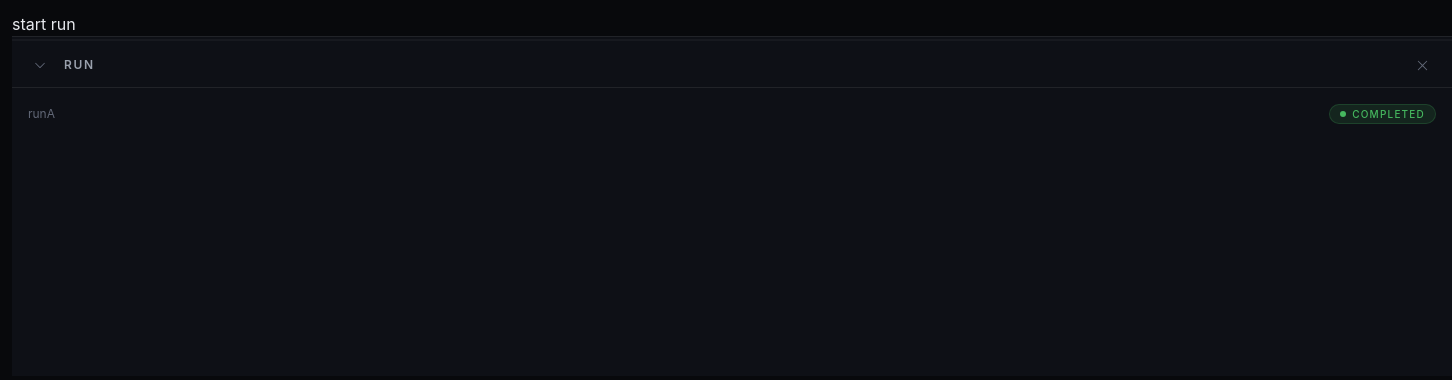
Scenario: RunDrawer — history replay & re-attach › the back control returns from a replayed run to the history list
Click the button "runA completed". click: (1383,114)
box: [20,96,1444,132]
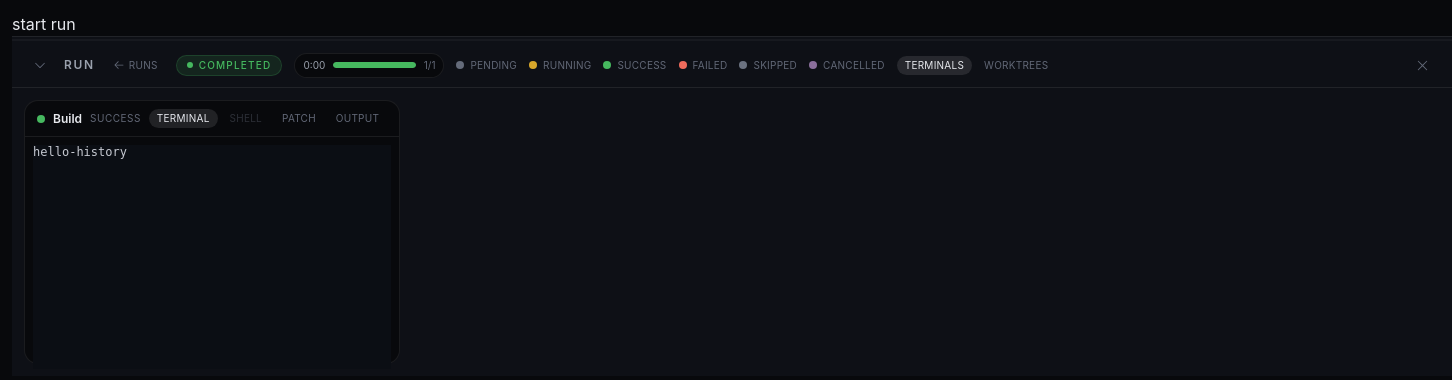
Expected: the text "hello-history" is shown, [33,145,127,159]
Click the button "Runs". click: (135,65)
box: [107,56,164,74]
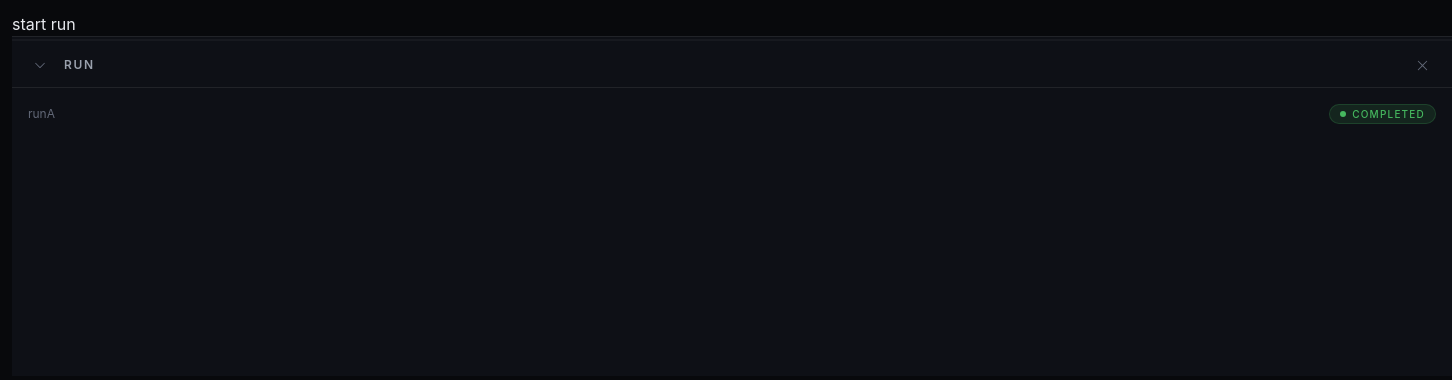
Expected: the button "runA completed" is shown, [20,96,1444,132]
Expected: the text "hello-history" is gone
